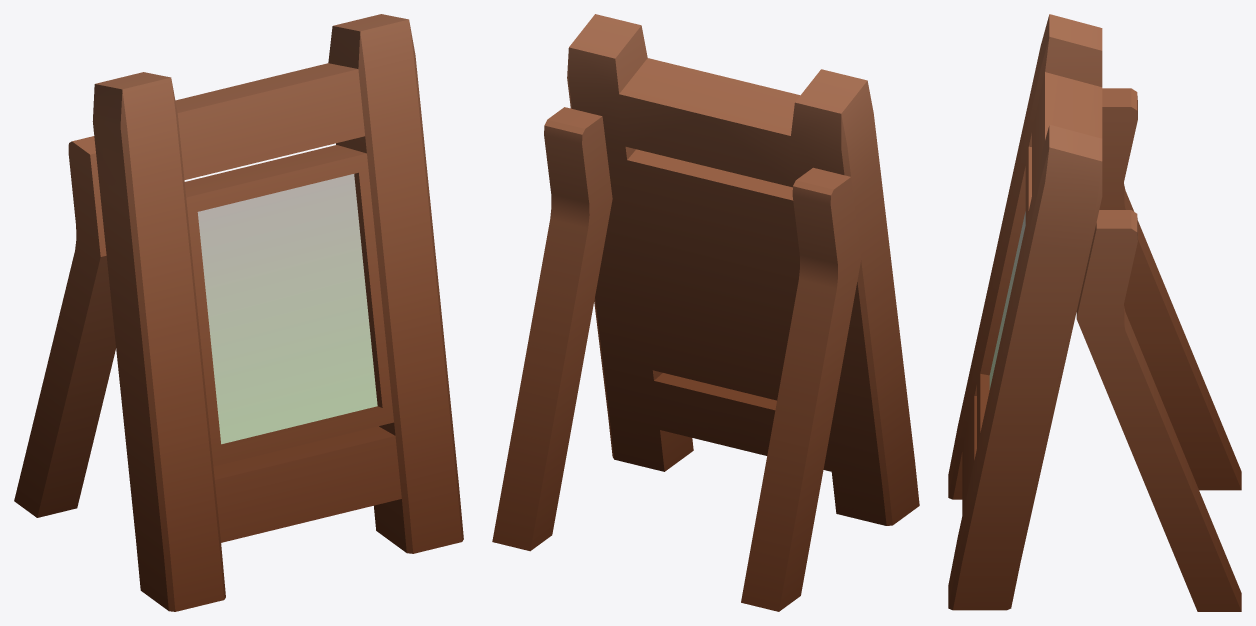
File: Chart.fbx
The picture shows the model from 3 angles, left to right: view 1: azimuth 30°, elevation 25°; view 2: azimuth 150°, elevation 25°; view 3: azimuth 270°, elevation 25°; orthographic projection. The views are drawn at different scales.
Parts seen in each view (by area): view 1: Chart; view 2: Chart; view 3: Chart.
Part boxes in pixels (left/top/right/bottom): Chart: left=14, top=14, right=463, bottom=611; Chart: left=492, top=14, right=919, bottom=611; Chart: left=948, top=14, right=1241, bottom=611.
Size of the model in its own units: 0.7435 by 1.14 by 0.6569.
